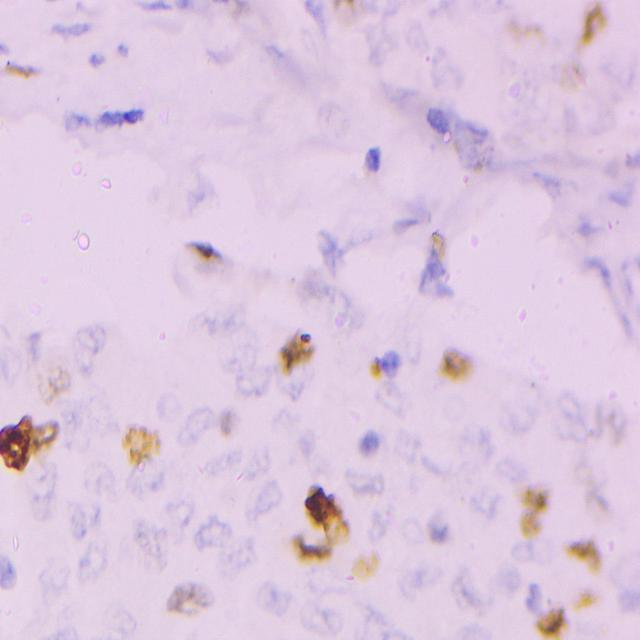Healthy cell: (290, 276, 363, 329), (133, 524, 182, 578), (430, 46, 474, 101), (453, 417, 496, 472), (419, 263, 461, 316), (450, 116, 490, 171), (36, 553, 79, 599), (243, 476, 286, 518), (236, 358, 272, 406), (65, 495, 102, 539), (363, 601, 403, 640), (257, 579, 292, 623), (554, 386, 586, 434), (368, 499, 400, 546), (500, 542, 551, 571), (418, 104, 452, 147), (182, 404, 213, 451), (218, 533, 255, 571), (463, 479, 502, 515), (86, 392, 117, 437), (498, 394, 536, 430), (0, 544, 25, 598), (173, 489, 201, 535), (344, 464, 384, 494), (130, 464, 168, 494), (196, 515, 229, 549), (76, 320, 107, 353), (459, 574, 488, 606), (426, 509, 450, 546), (363, 140, 385, 180), (82, 540, 103, 580), (360, 424, 381, 458), (86, 46, 108, 77), (114, 41, 136, 60)
cancer-cell-QiJm: (180, 229, 247, 284), (304, 487, 352, 547), (564, 533, 612, 593), (566, 0, 609, 59), (119, 419, 170, 467), (0, 408, 36, 474), (278, 329, 322, 383), (578, 464, 616, 524), (573, 584, 614, 636), (166, 580, 217, 620), (289, 526, 336, 568), (501, 6, 542, 54), (552, 53, 592, 97), (345, 550, 388, 590), (37, 356, 75, 401), (600, 398, 626, 452), (516, 474, 550, 514), (436, 345, 470, 382), (3, 53, 42, 85), (30, 418, 59, 459), (533, 604, 566, 640), (516, 503, 548, 540), (328, 0, 367, 21), (214, 407, 240, 438), (219, 0, 251, 25), (364, 348, 386, 384), (430, 230, 451, 260)
